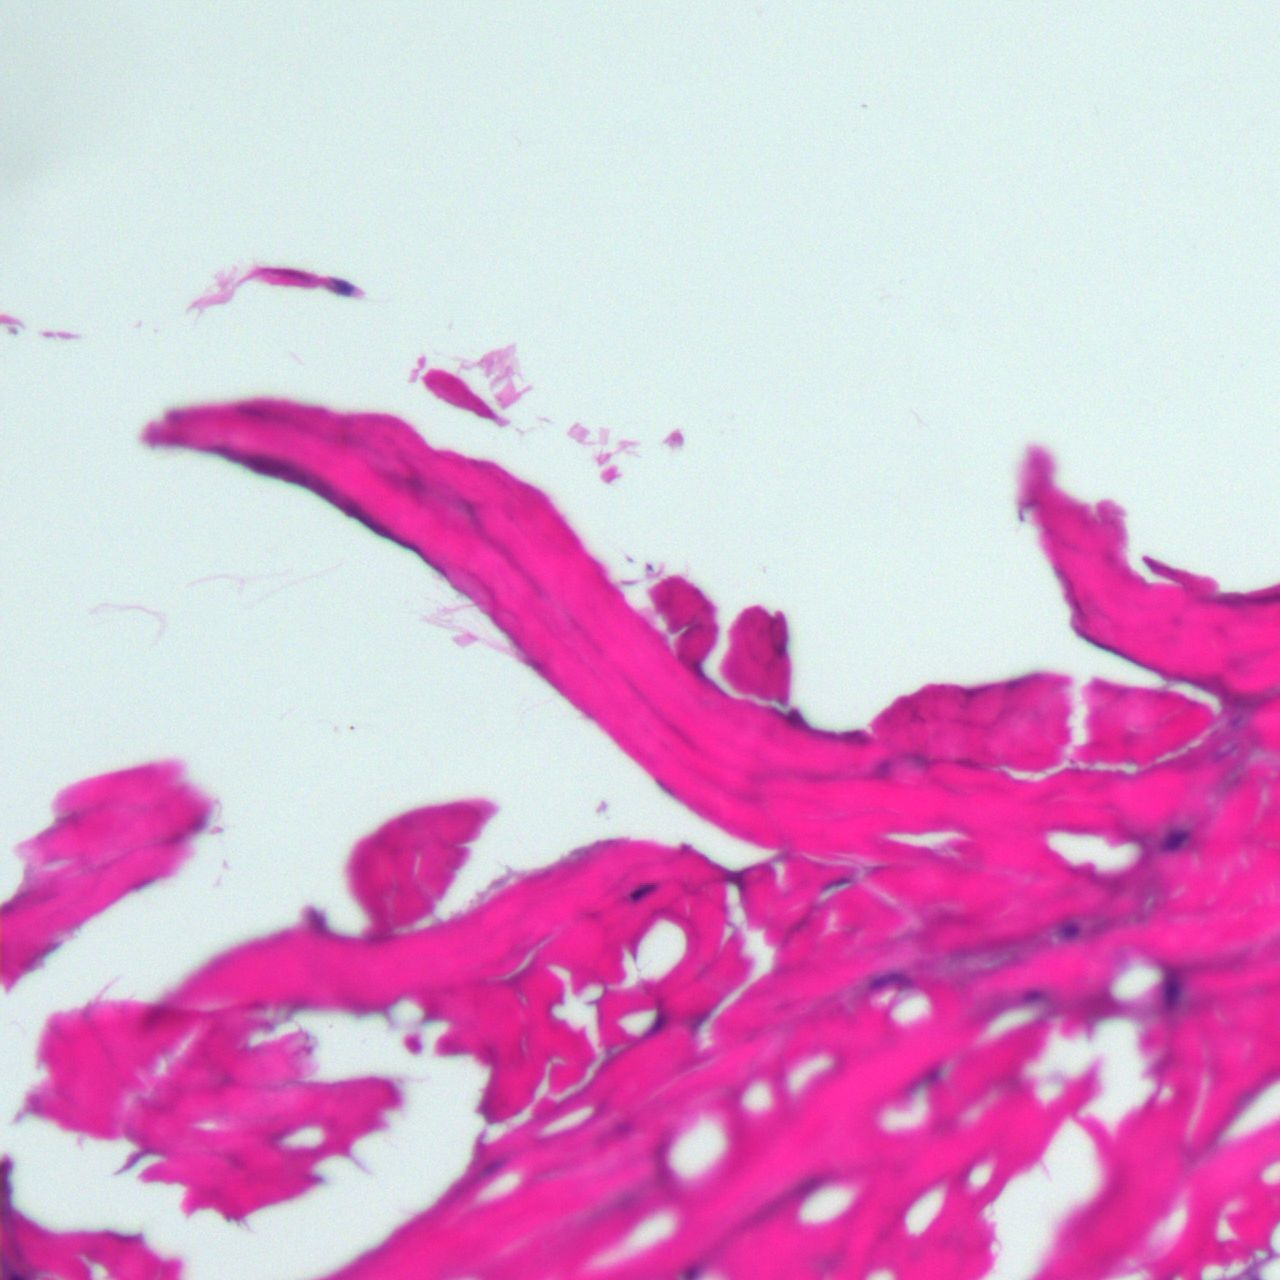nucleus-HE: (622, 872, 666, 907), (1159, 830, 1193, 851), (1162, 971, 1180, 1008), (1057, 920, 1083, 941)
